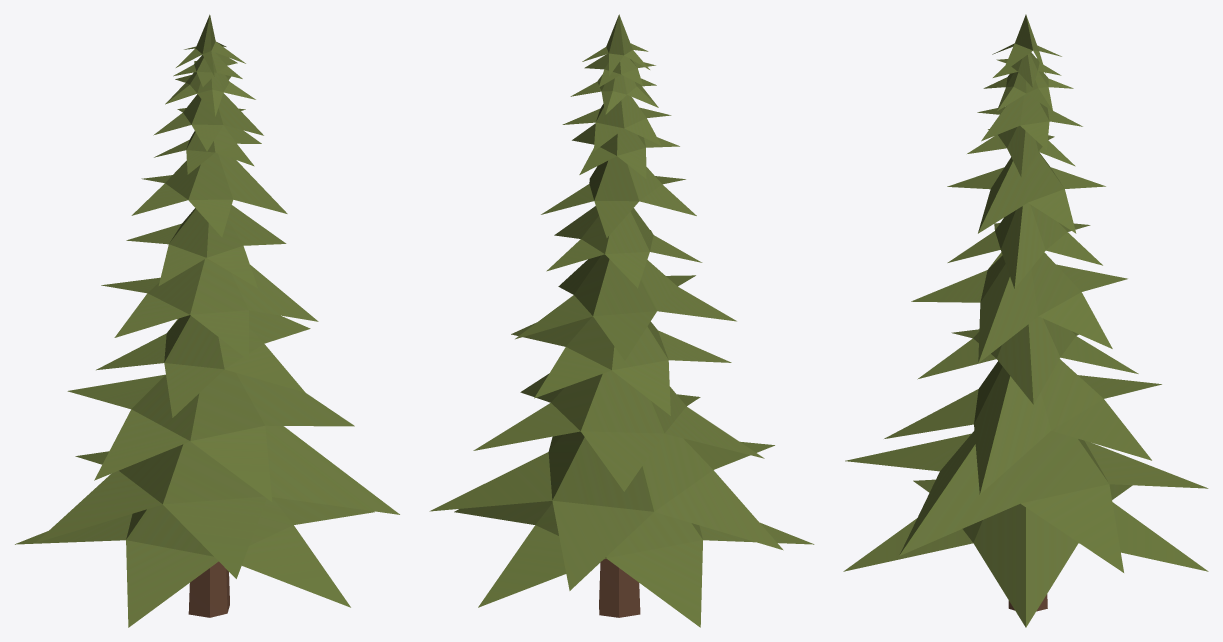
File: Tree_2_LOD1.fbx
The picture shows the model from 3 angles, left to right: view 1: azimuth 30°, elevation 25°; view 2: azimuth 150°, elevation 25°; view 3: azimuth 270°, elevation 25°; orthographic projection.
Parts seen in each view (by area): view 1: polySurface10452; view 2: polySurface10452; view 3: polySurface10452.
Boxes of the visible parts, bbox=[...] form: polySurface10452: bbox=[15, 14, 399, 627]; polySurface10452: bbox=[429, 14, 814, 627]; polySurface10452: bbox=[843, 14, 1208, 627].
Bounding box in the file's own units: 240 × 407 × 229.
